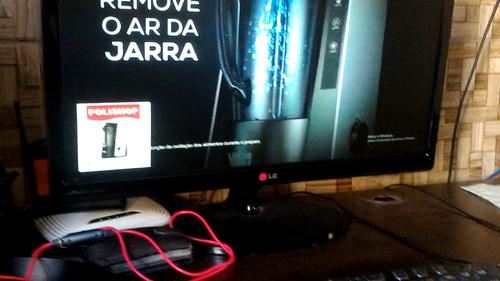Polishop #1: (78, 101, 152, 172)
